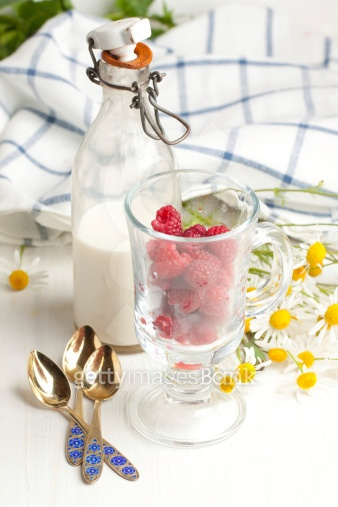glass of milk: (62, 12, 179, 345)
